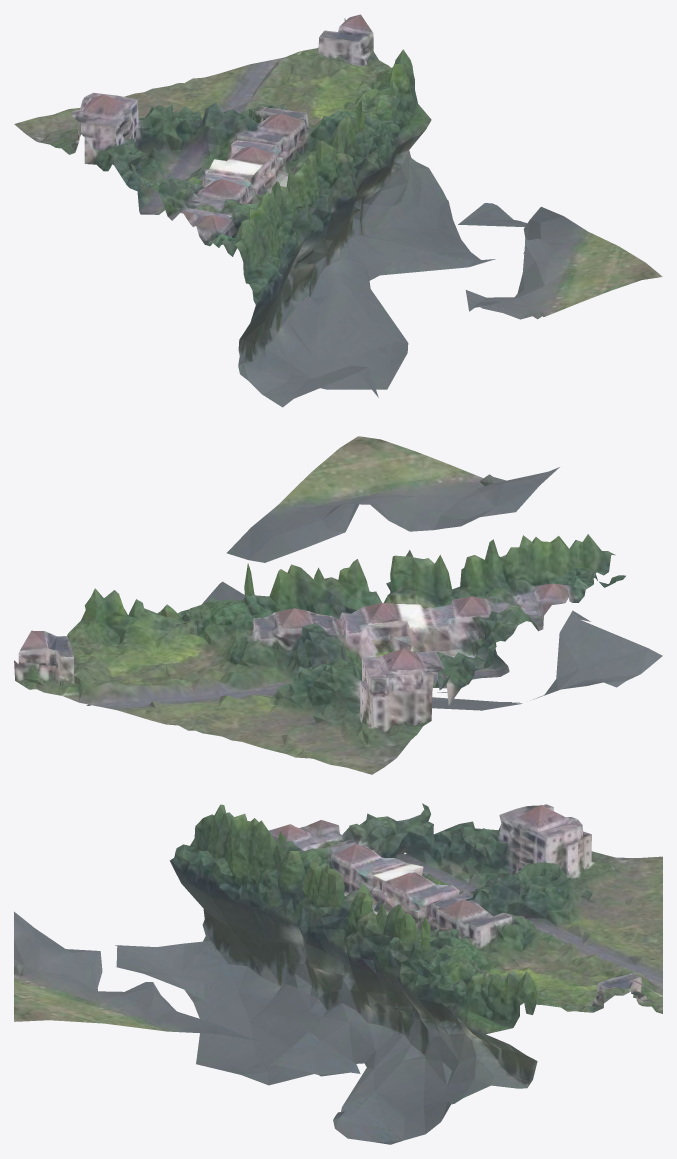
File: Tile__000__006_L18_0000t1.glb
The picture shows the model from 3 angles, top to bottom: view 1: azimuth 30°, elevation 25°; view 2: azimuth 150°, elevation 25°; view 3: azimuth 270°, elevation 25°; orthographic projection. The views are drawn at different scales.
Visible parts, largest first — view 1: root; view 2: root; view 3: root.
Part boxes in pixels (x1,y1,x2,y2): root: (14, 14, 662, 407); root: (14, 436, 662, 774); root: (14, 803, 662, 1144).
Bounding box in the file's own units: 60.71 × 34.86 × 101.
Materials: 2 (2 with a texture image).
